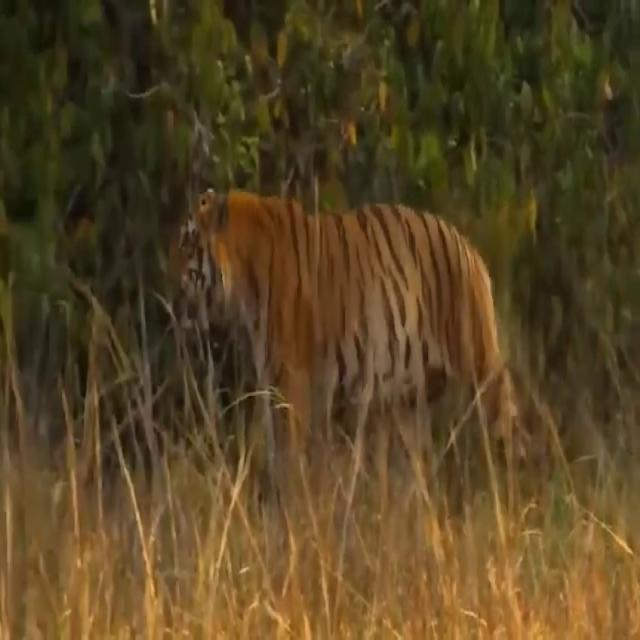tiger: (169, 188, 532, 472)
